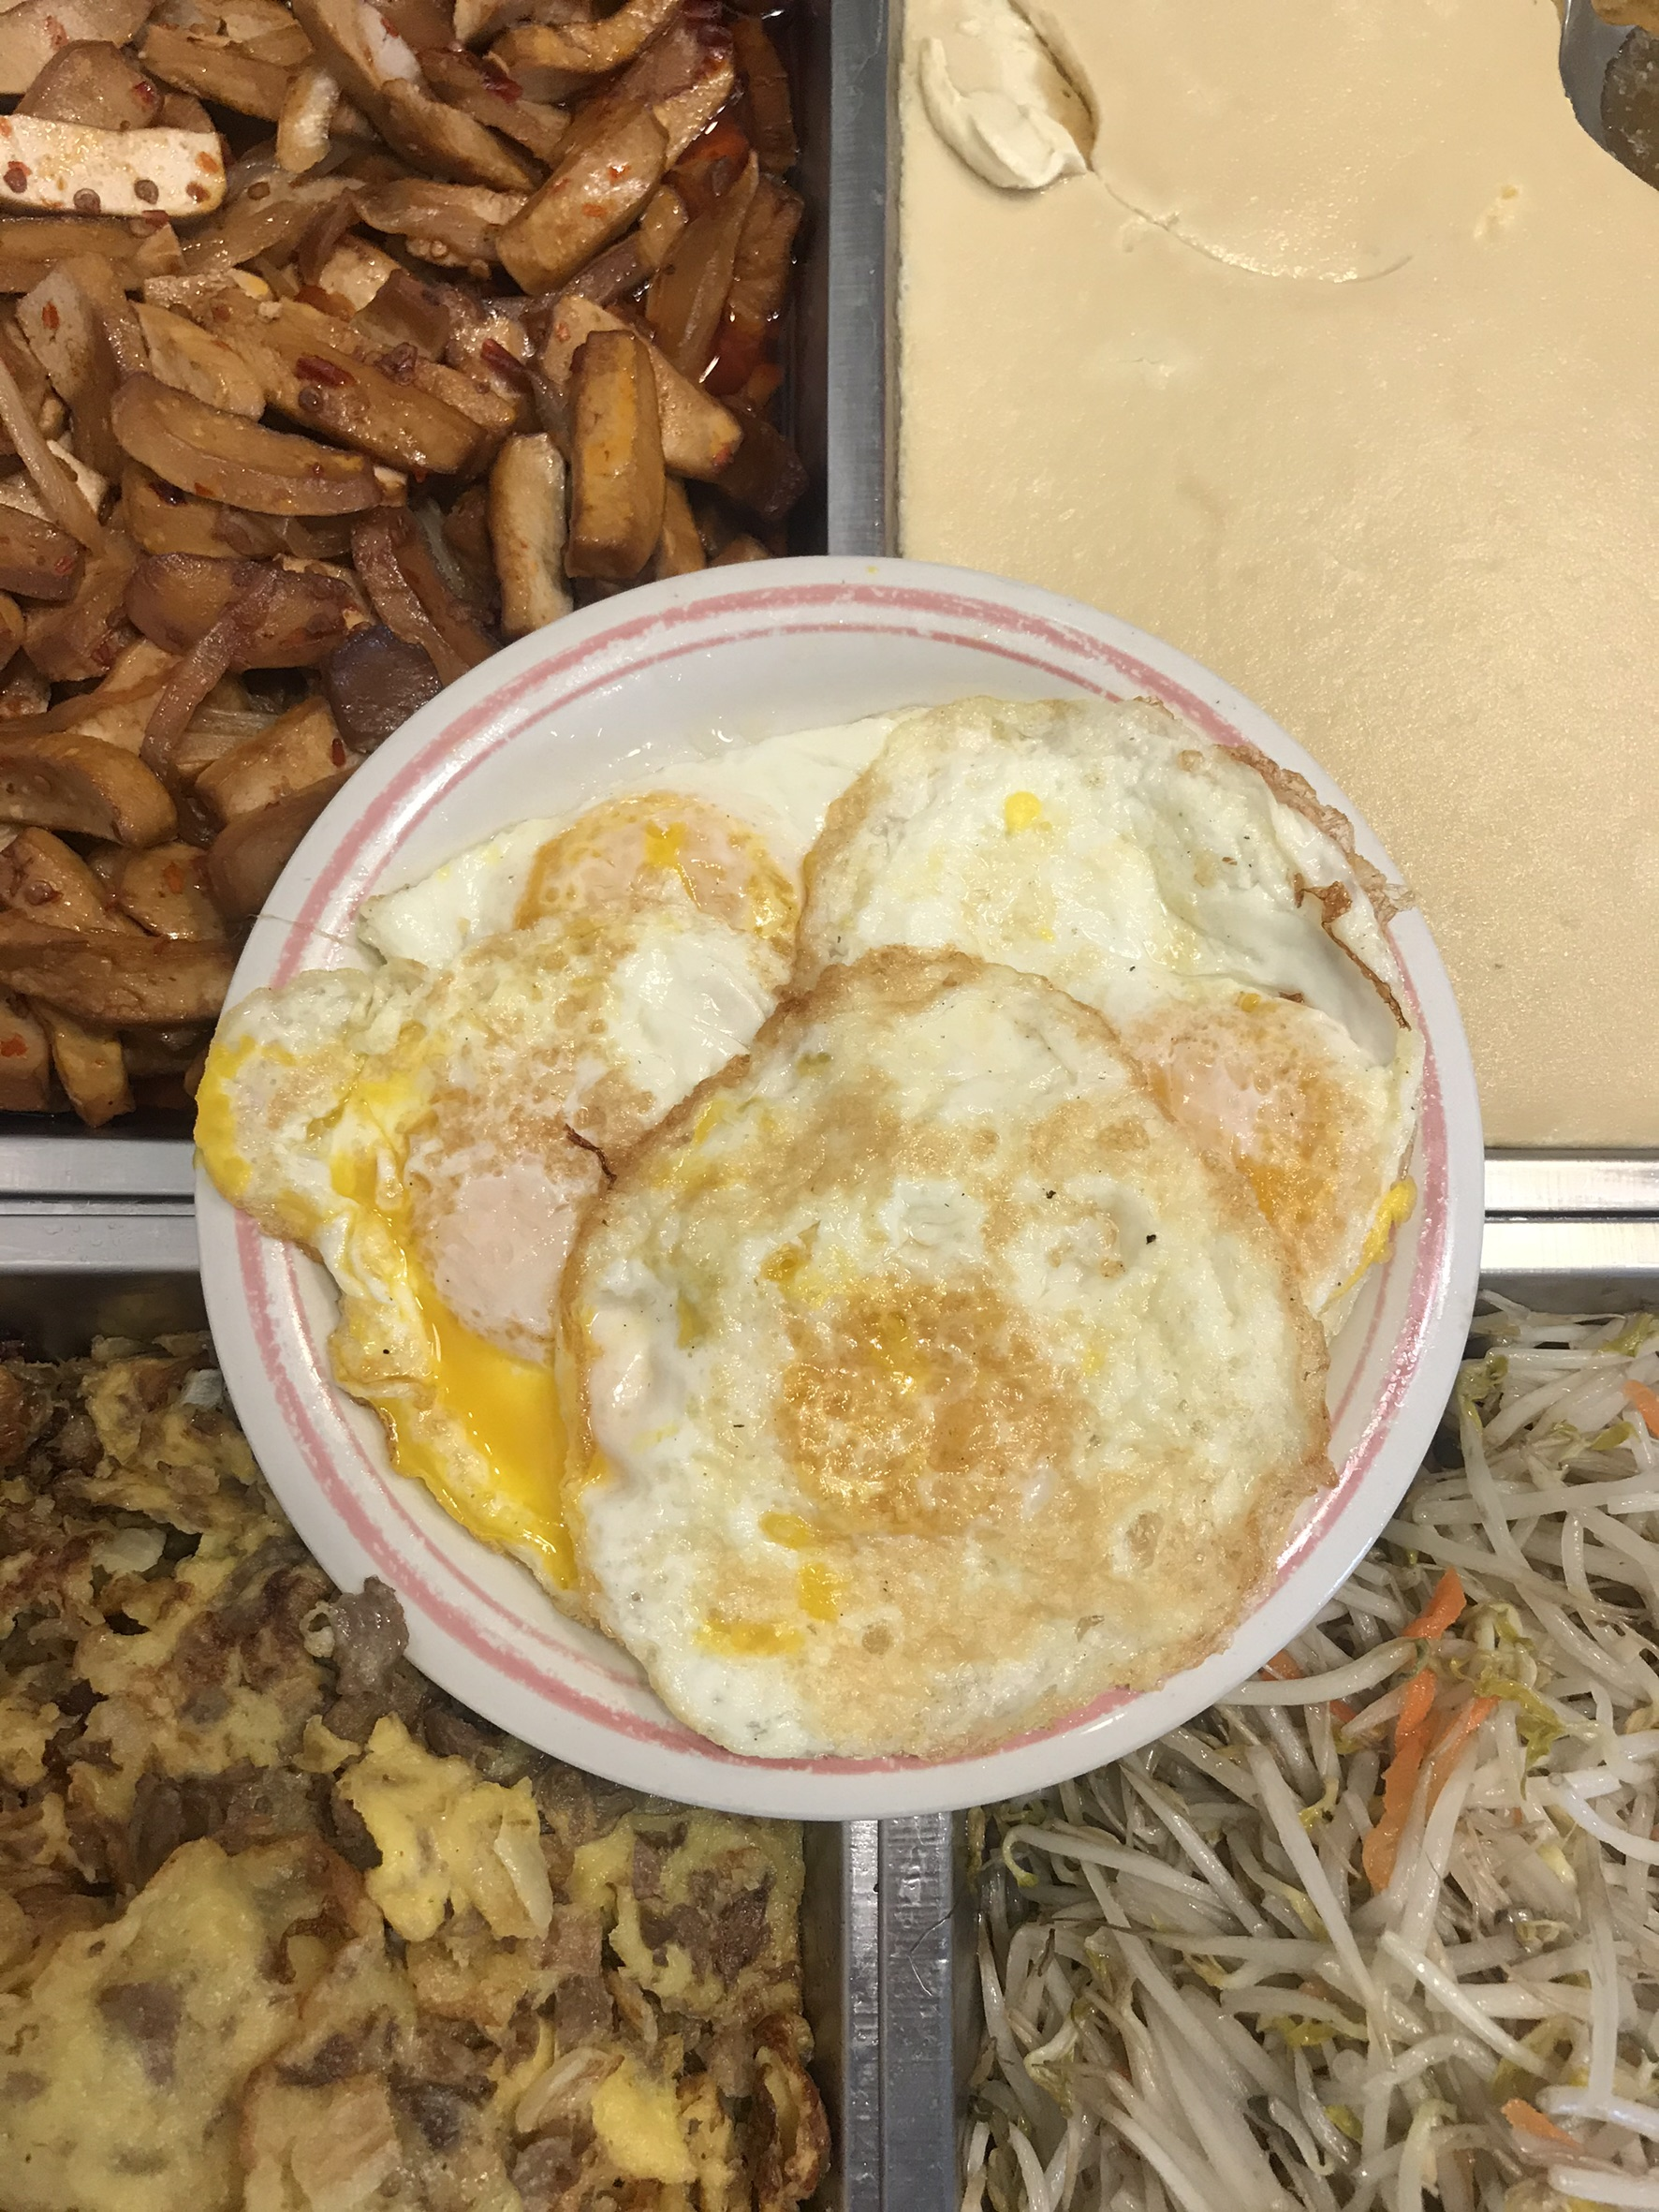fried_eggs: (214, 671, 1434, 1761)
mung_bean_sprouts: (993, 1804, 1659, 2212)
